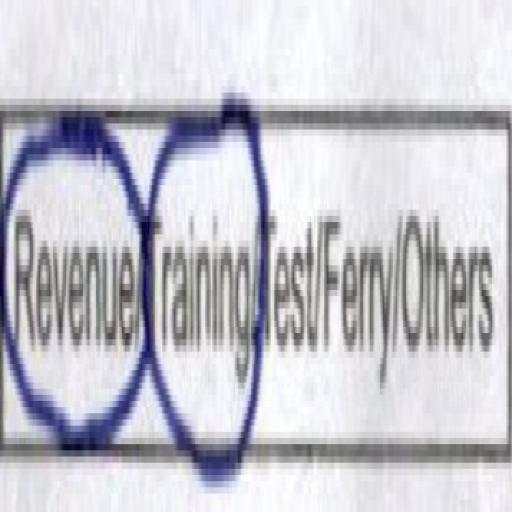check: (0, 0, 146, 512), (148, 0, 256, 512)
